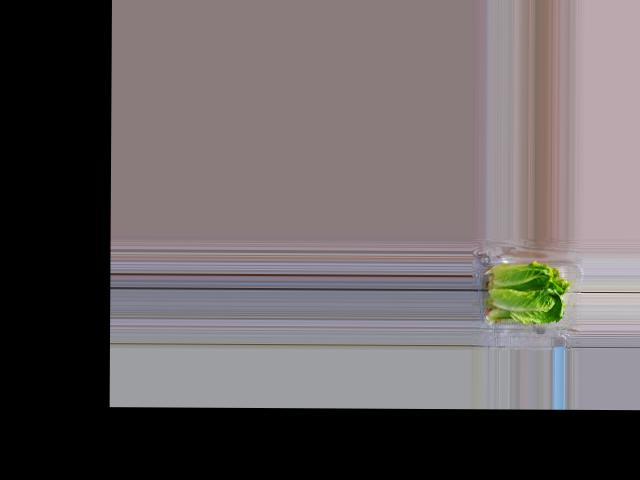lettuce: (489, 262, 570, 324)
